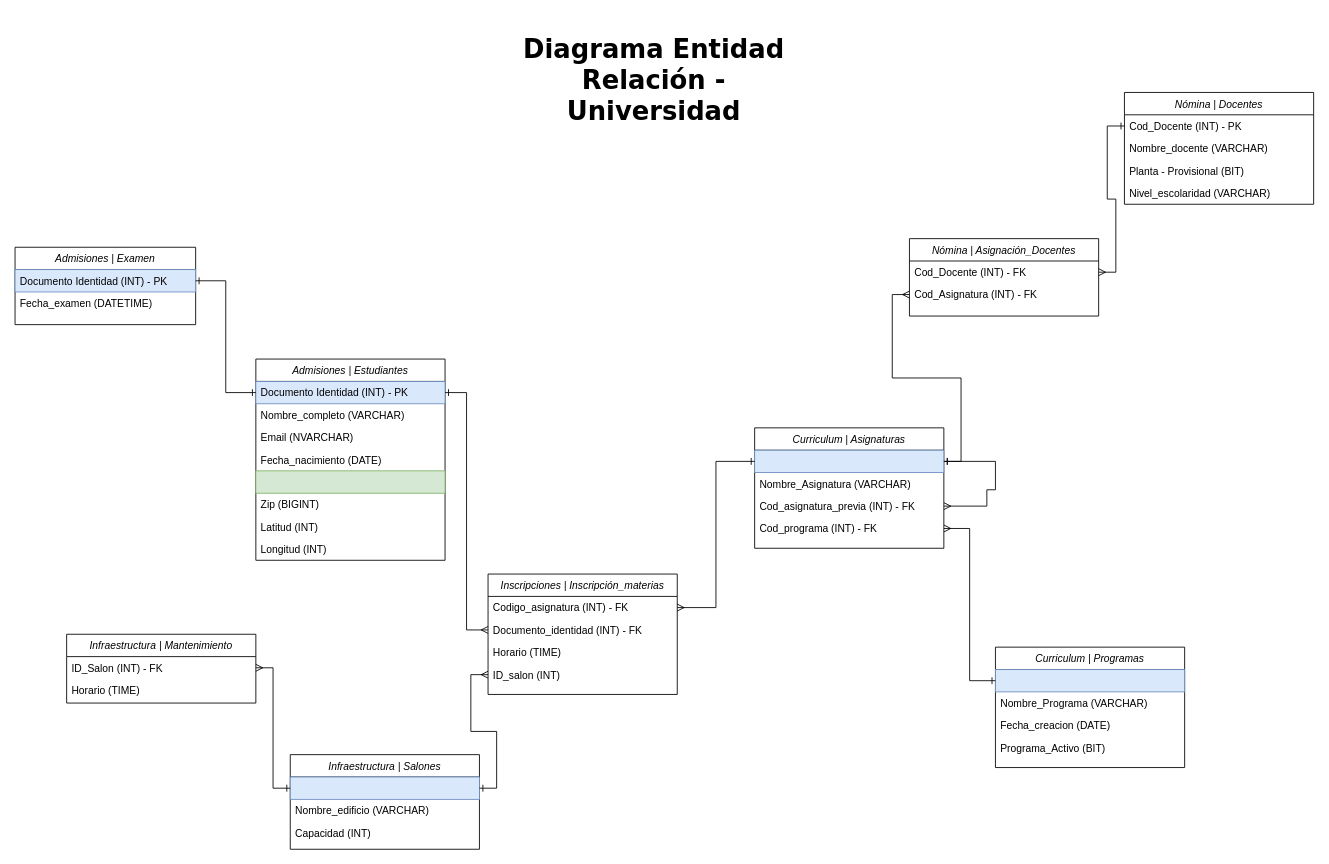
This 1329x864 diagram has some shape labels left out. Here are the shapes that lost their labels. From the top down, the centre of each, then its label:
At pixel 350 481: "Mayor_de_edad (BIN)".
At pixel 849 461: "Codigo_asignatura (INT) - PK".
At pixel 1090 680: "Cod_programa (INT) - PK".
At pixel 384 787: "ID_Salon (INT) - PK".
